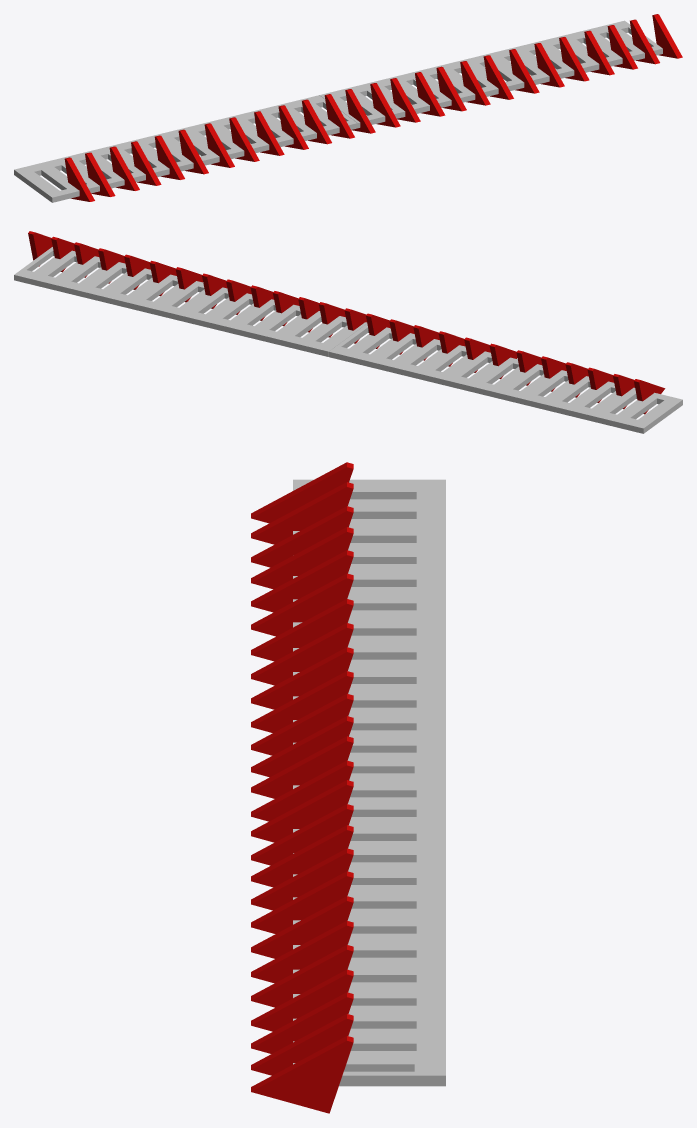
File: roadspike.obj
3 renders of one model, top to bottom at view 1: azimuth 30°, elevation 25°; view 2: azimuth 150°, elevation 25°; view 3: azimuth 270°, elevation 25°, orthographic. The views are drawn at different scales.
Visible parts, largest first — view 1: Cube.002_Material_0, Cube.025_Material.001_0; view 2: Cube.002_Material_0, Cube.025_Material.001_0; view 3: Cube.002_Material_0, Cube.025_Material.001_0.
Boxes of the visible parts, x1,y1,x2,y2 form: Cube.002_Material_0: (14, 20, 662, 202); Cube.025_Material.001_0: (64, 14, 682, 201); Cube.002_Material_0: (14, 247, 682, 433); Cube.025_Material.001_0: (28, 231, 665, 414); Cube.002_Material_0: (293, 479, 445, 1086); Cube.025_Material.001_0: (251, 462, 353, 1113).
Bounding box in the file's own units: 16.66 × 0.9381 × 2.27.
